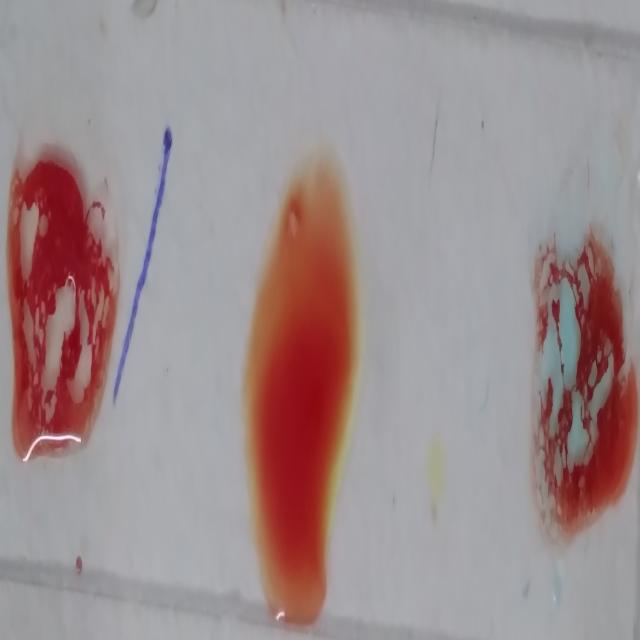A: (526, 222, 634, 532)
D: (9, 161, 110, 472)
